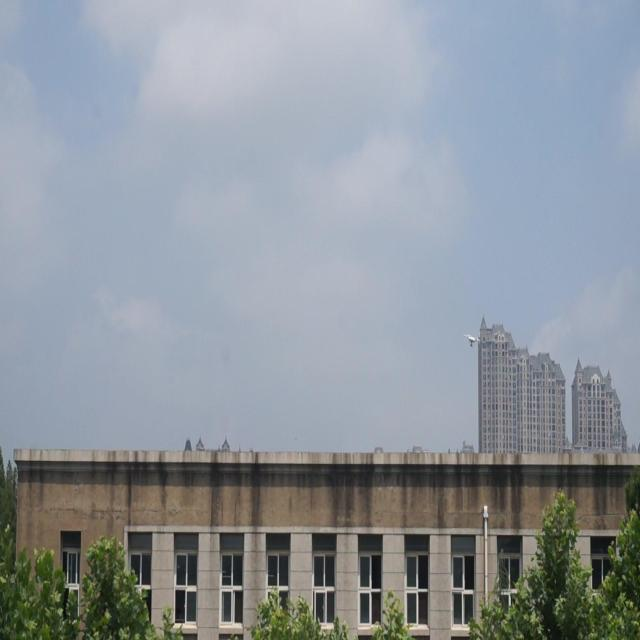drone: (464, 329, 481, 354)
